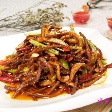chashugu: (1, 22, 112, 101)
